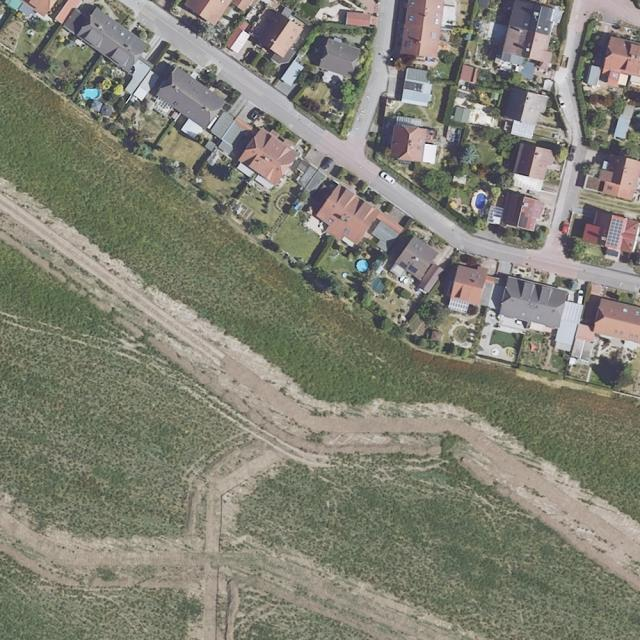PV: (607, 218, 623, 246)
ST: (408, 264, 418, 273), (399, 261, 407, 271)
